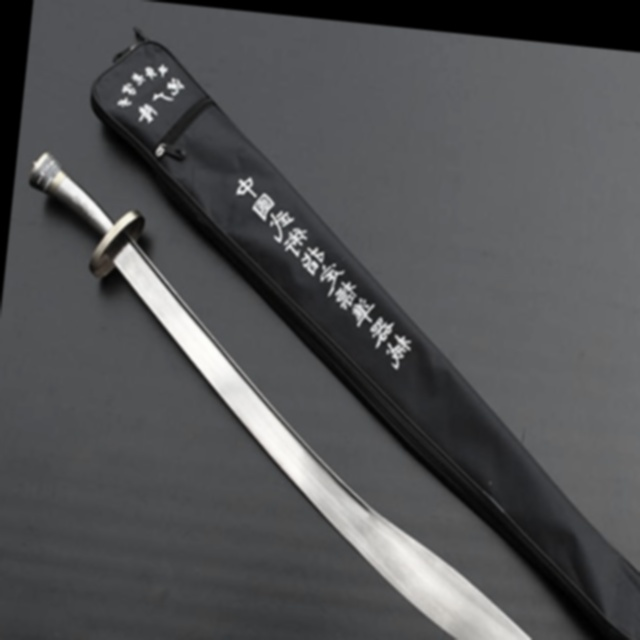Sharp-Object: (0, 205, 637, 640)
